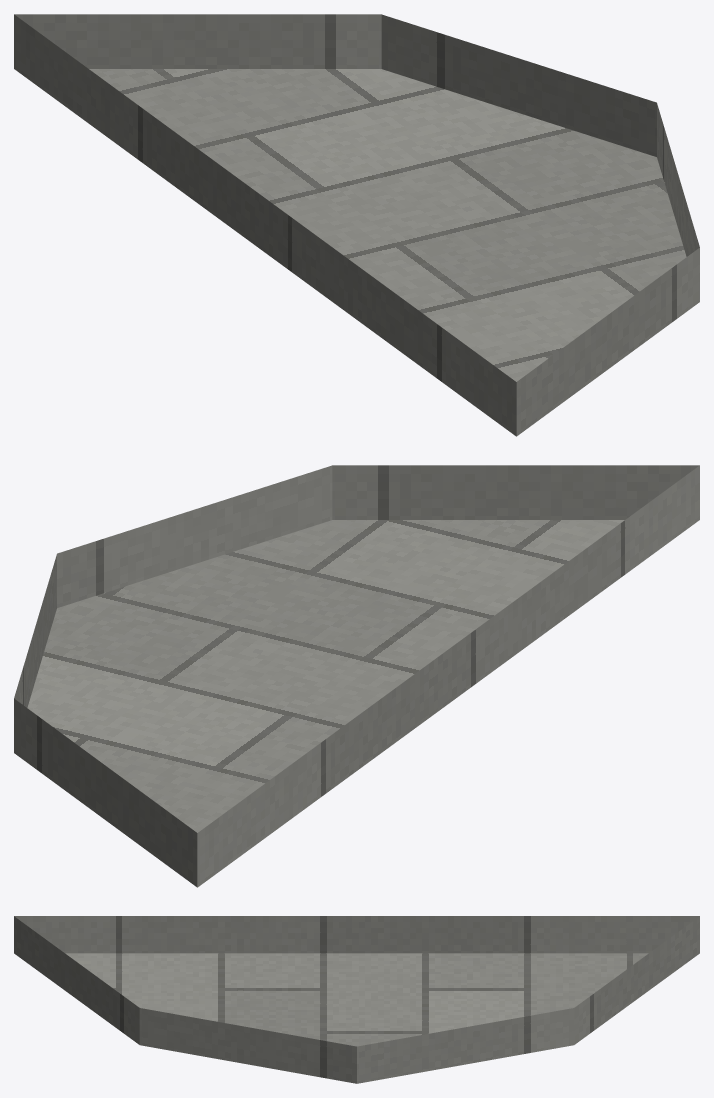
File: foundation.glb
3 renders of one model, top to bottom at view 1: azimuth 30°, elevation 25°; view 2: azimuth 150°, elevation 25°; view 3: azimuth 270°, elevation 25°, orthographic. The views are drawn at different scales.
Parts seen in each view (by area): view 1: Lodge_BayFoundation; view 2: Lodge_BayFoundation; view 3: Lodge_BayFoundation.
Part boxes in pixels (x1,y1,x2,y2): Lodge_BayFoundation: [14, 14, 699, 436]; Lodge_BayFoundation: [14, 465, 699, 887]; Lodge_BayFoundation: [14, 916, 699, 1083].
Size of the model in its own units: 1.35 by 0.18 by 3.
Materials: 1 (1 with a texture image).
